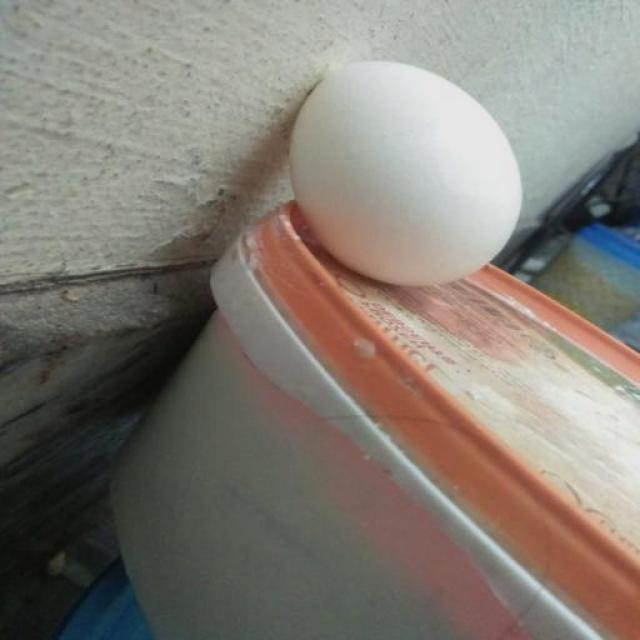telur: (294, 62, 525, 286)
